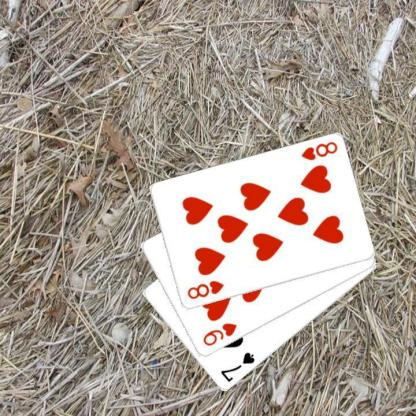7S: (218, 350, 256, 384)
8H: (184, 278, 226, 301), (298, 140, 338, 162)
9H: (200, 320, 238, 348)
